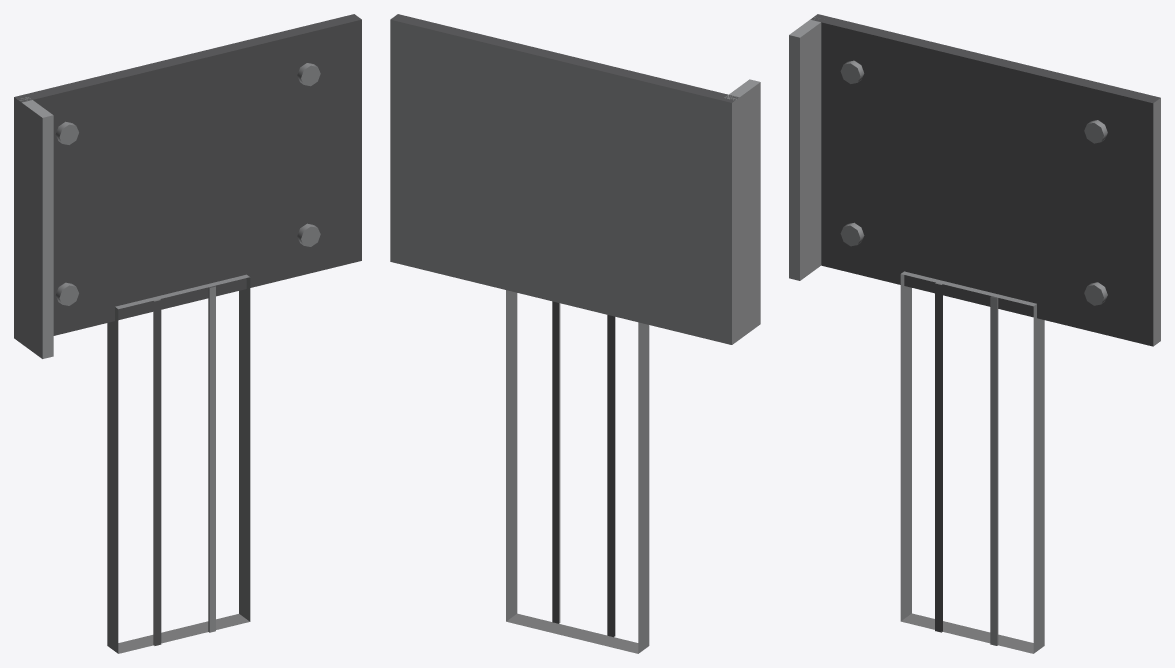
The picture shows the model from 3 angles, left to right: view 1: azimuth 30°, elevation 25°; view 2: azimuth 150°, elevation 25°; view 3: azimuth 330°, elevation 25°; orthographic projection.
Size of the model in its own units: 0.62 by 0.995 by 0.09.
